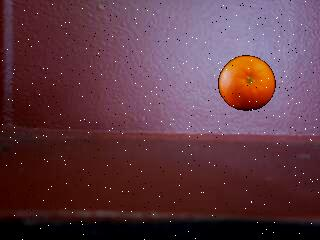Orange: (219, 54, 276, 112)
